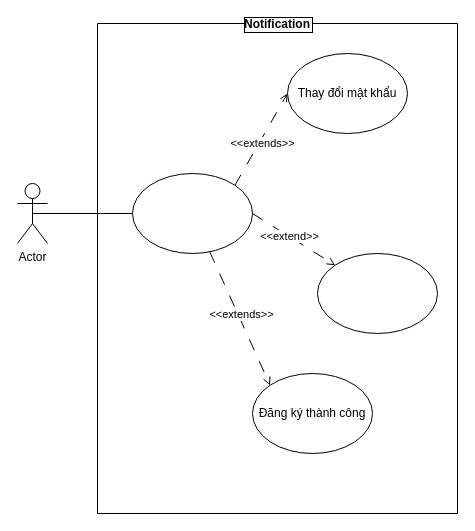
This 475x531 diagram has some shape labels left out. Here are the shapes that lost their labels. From the top down, the centre of each, then its label:
point 192,213: UC 4.1 Thông báo
point 377,293: Nhận tin nhắn mới ngoài ứng dụng
